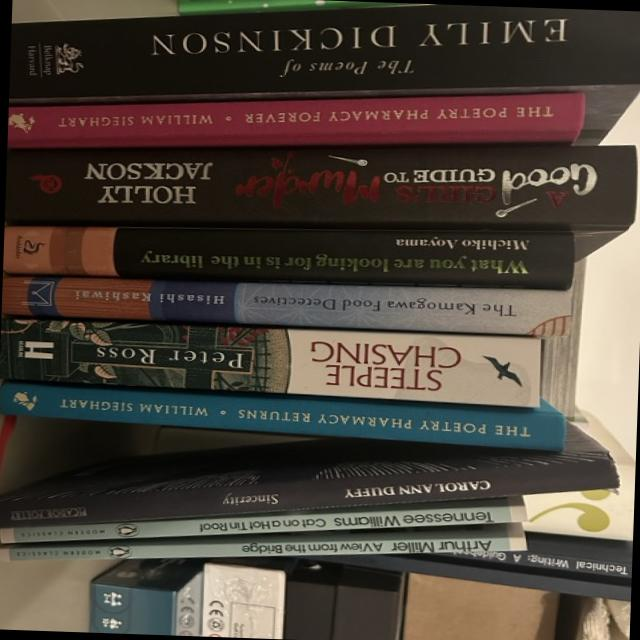book: (8, 0, 640, 146), (5, 137, 635, 260), (0, 419, 619, 529), (0, 381, 566, 450), (4, 225, 573, 290), (2, 274, 571, 337), (307, 504, 637, 600), (8, 92, 583, 147), (19, 495, 526, 543), (0, 522, 526, 568), (285, 329, 540, 406), (451, 526, 633, 577)
